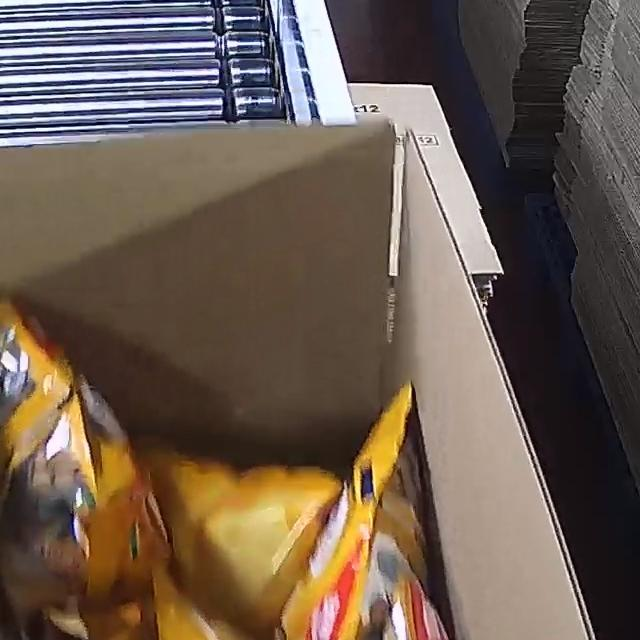cheese: (0, 342, 497, 640)
